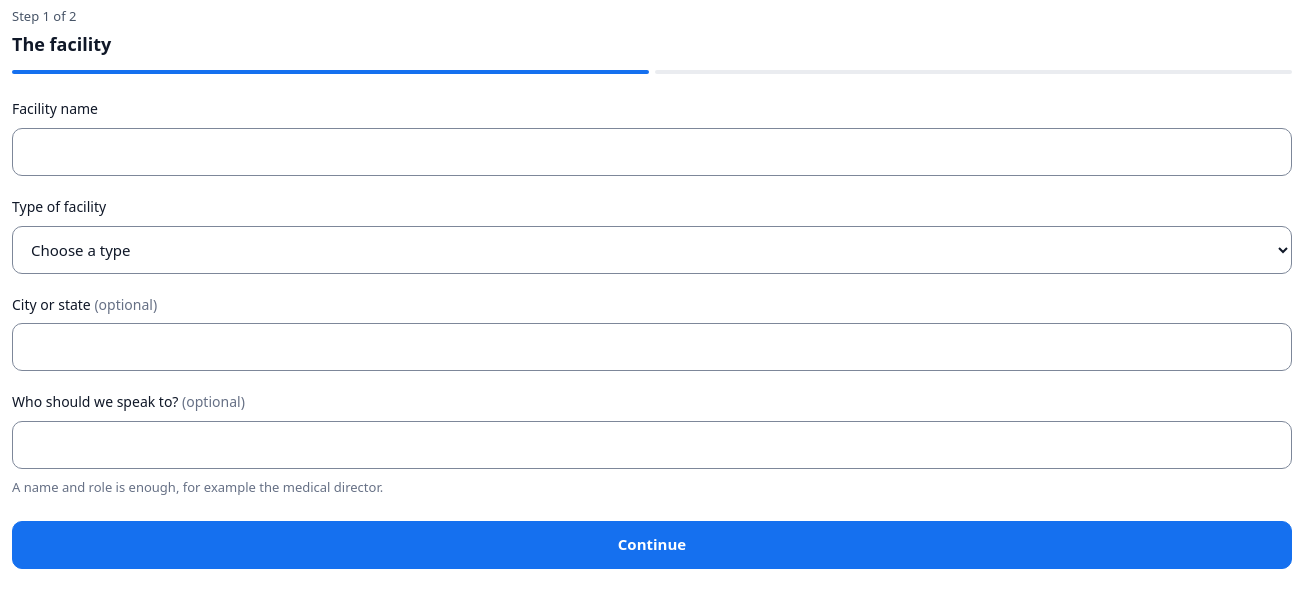
referral form › moves to the referrer step, lets you go back, and keeps what you typed
The width and height of the screenshot is (1304, 606).
Type "Lagos General Hospital" into the field named "facilityName" at (652, 152), box [12,128,1292,176]
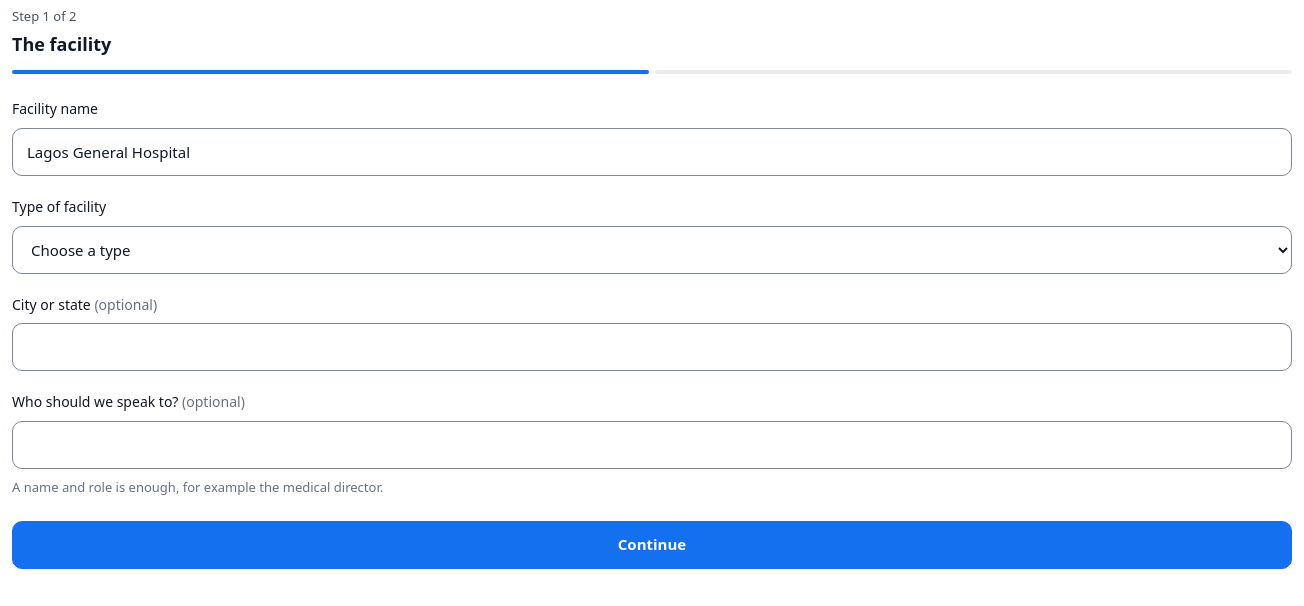
Select "Clinic" in the dropdown labelled "Type of facility" at (652, 250), box [12,226,1292,274]
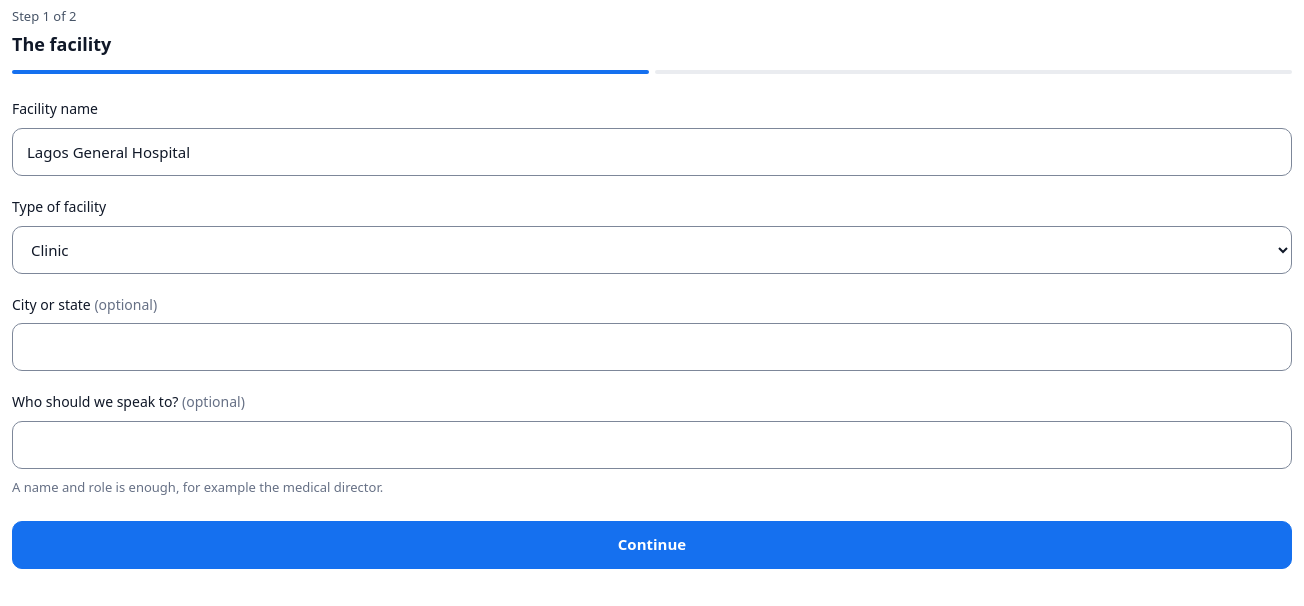
Click the button "Continue" at (652, 545), box [12,521,1292,569]
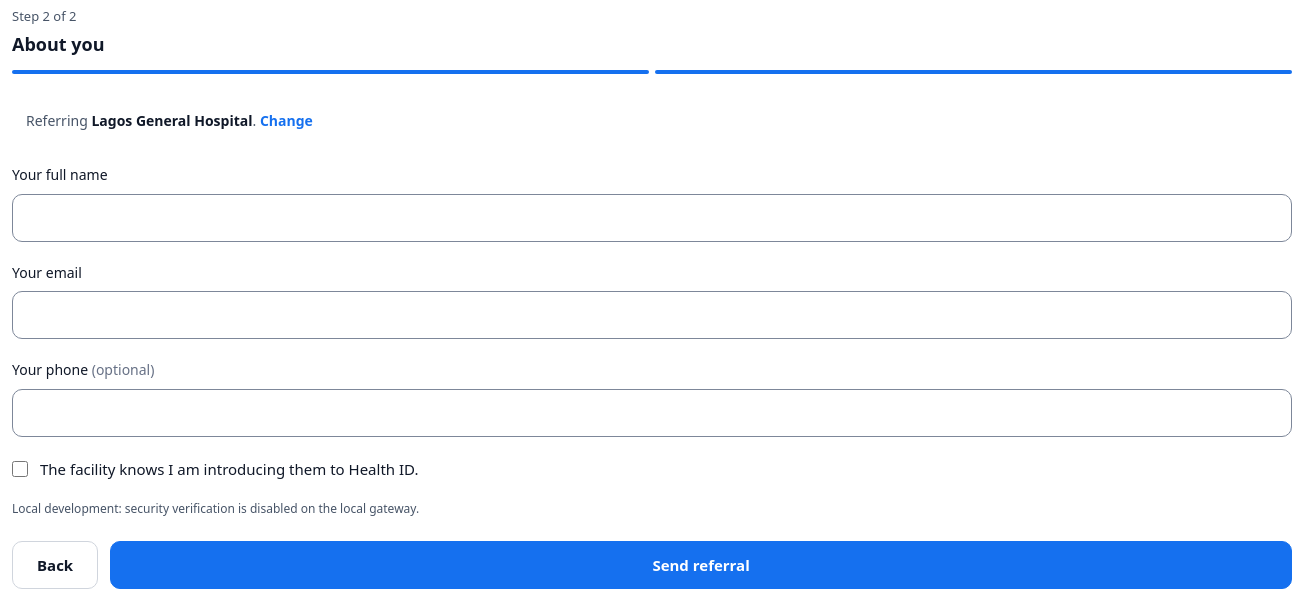
expect the text "Step 2 of 2" is shown: met, box [12,7,76,25]
expect the text "Lagos General Hospital" is shown: met, box [91,111,252,130]
Click the button "Back" at (55, 565), box [12,541,98,589]
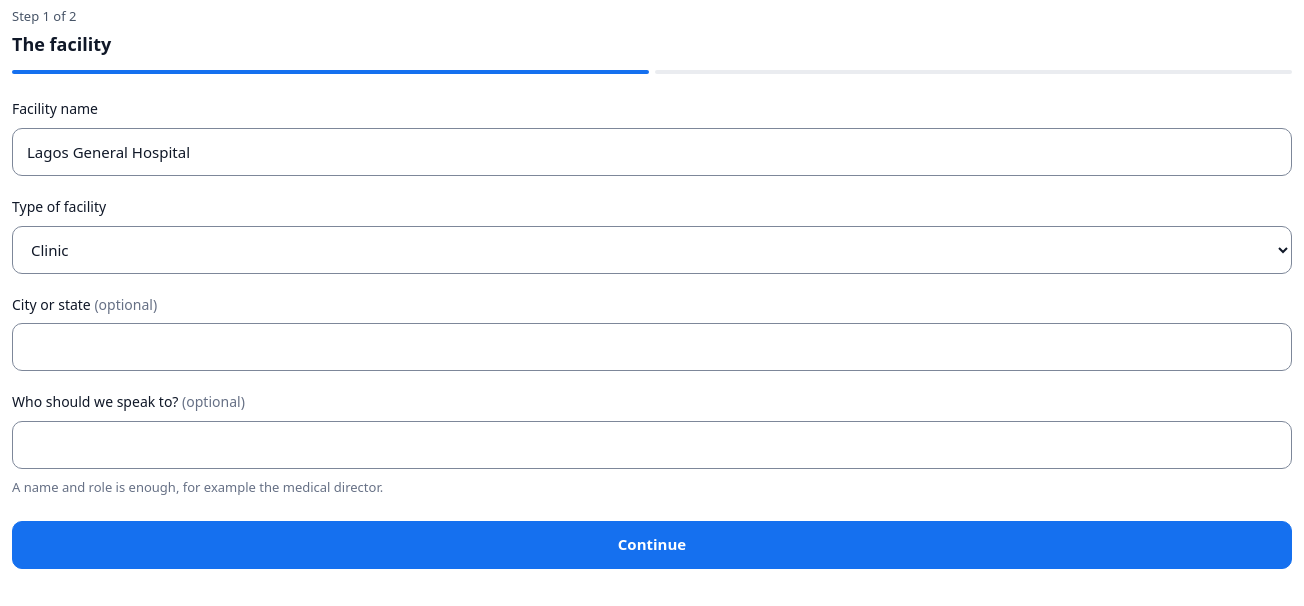
expect the field named "facilityName" holds "Lagos General Hospital": met, box [12,128,1292,176]
